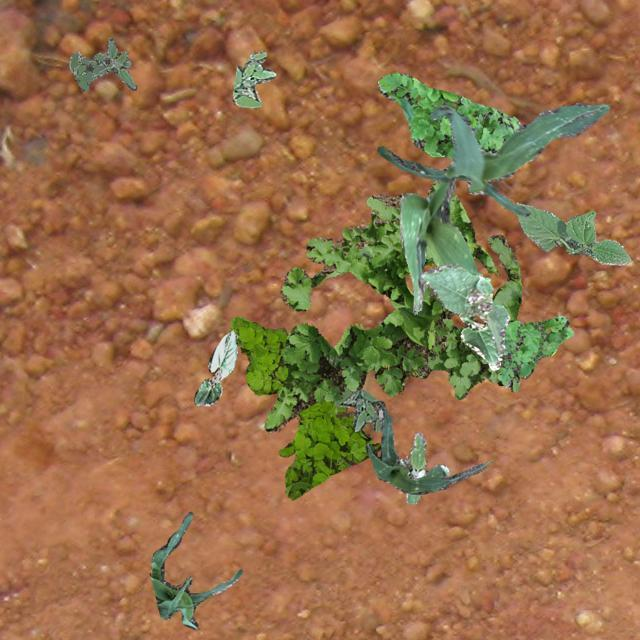crop: (376, 101, 608, 216), (364, 399, 486, 494), (398, 176, 479, 314), (150, 510, 240, 628), (419, 264, 508, 354), (514, 202, 630, 264), (192, 330, 236, 404), (459, 314, 501, 369)
weed: (264, 178, 496, 432), (230, 316, 380, 498), (412, 234, 520, 398), (376, 72, 520, 158), (497, 314, 572, 388), (68, 36, 136, 90), (398, 432, 448, 502), (232, 49, 274, 108), (332, 386, 380, 430)
